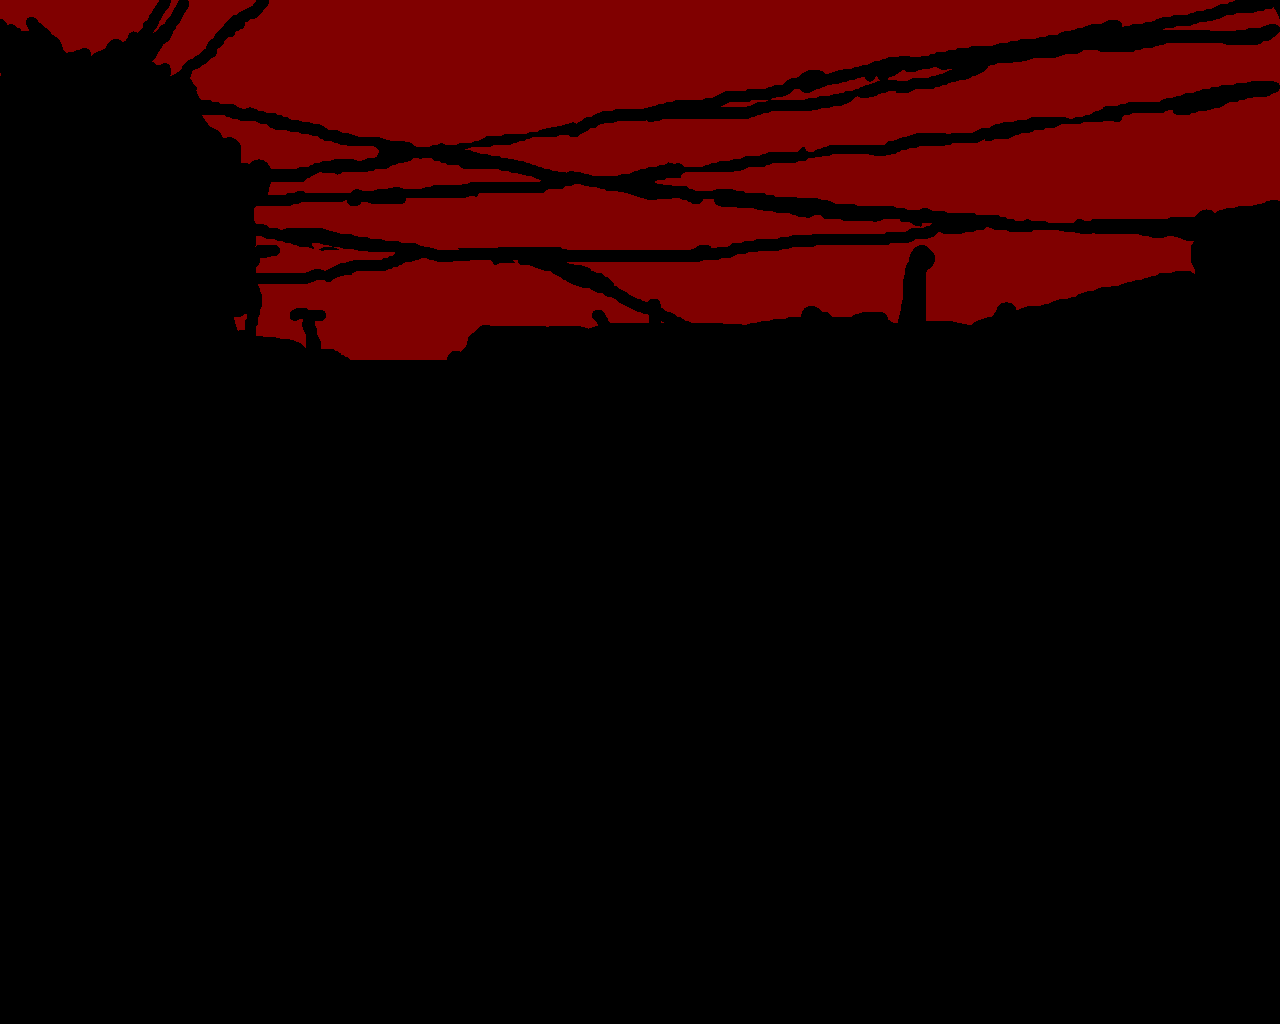Sky: (1, 1, 1279, 360)
